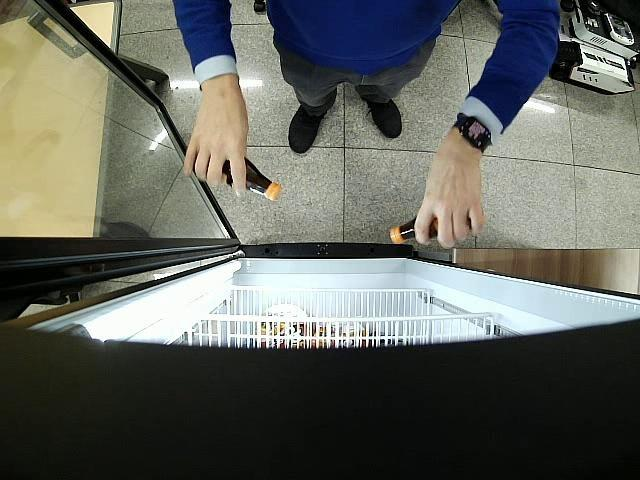17_vita500: (190, 156, 284, 201), (388, 216, 472, 246)
